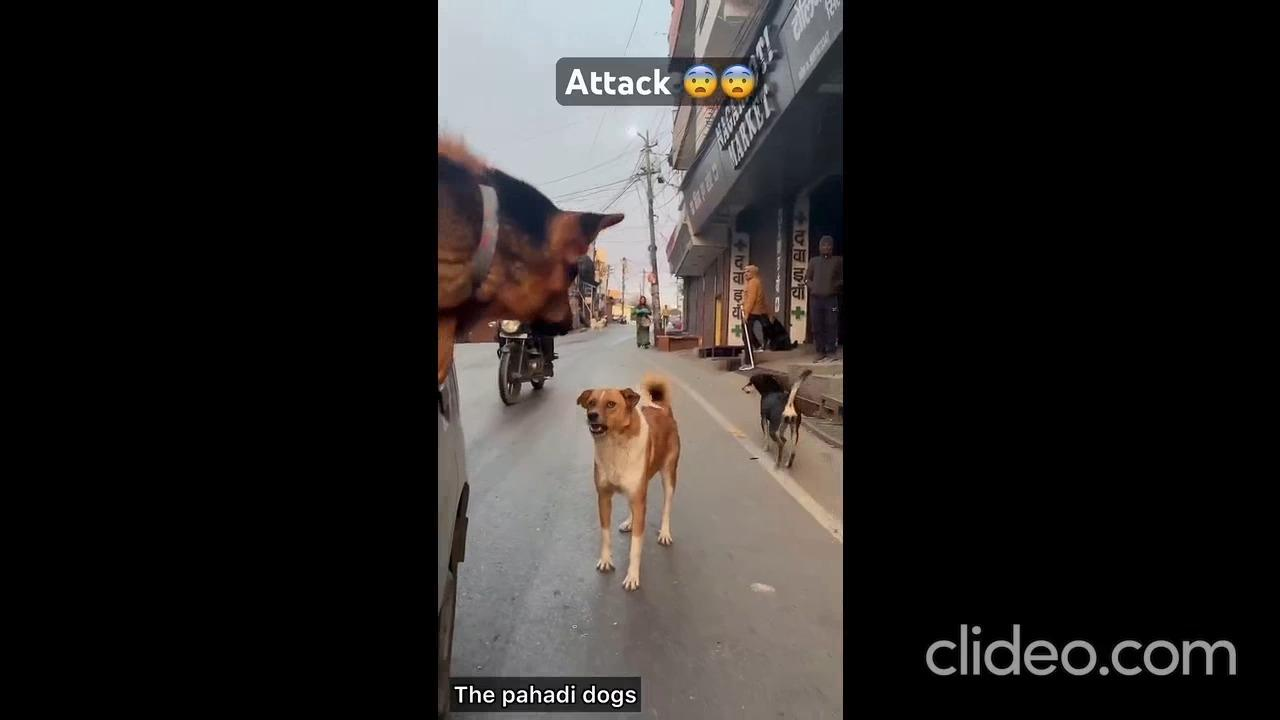dog: (564, 367, 694, 575), (736, 367, 826, 483)
